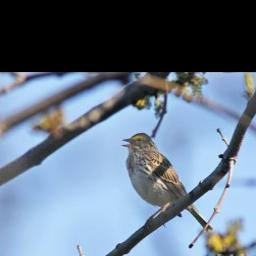Sparrow: (121, 131, 215, 233)
